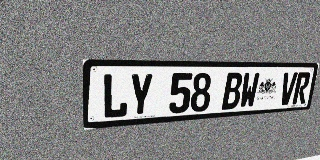5: (169, 73, 193, 114)
8: (190, 73, 213, 112)
B: (221, 73, 243, 110)
L: (102, 73, 129, 119)
R: (292, 72, 311, 104)
V: (278, 72, 298, 105)
W: (239, 72, 260, 108)
Y: (128, 73, 154, 117)
